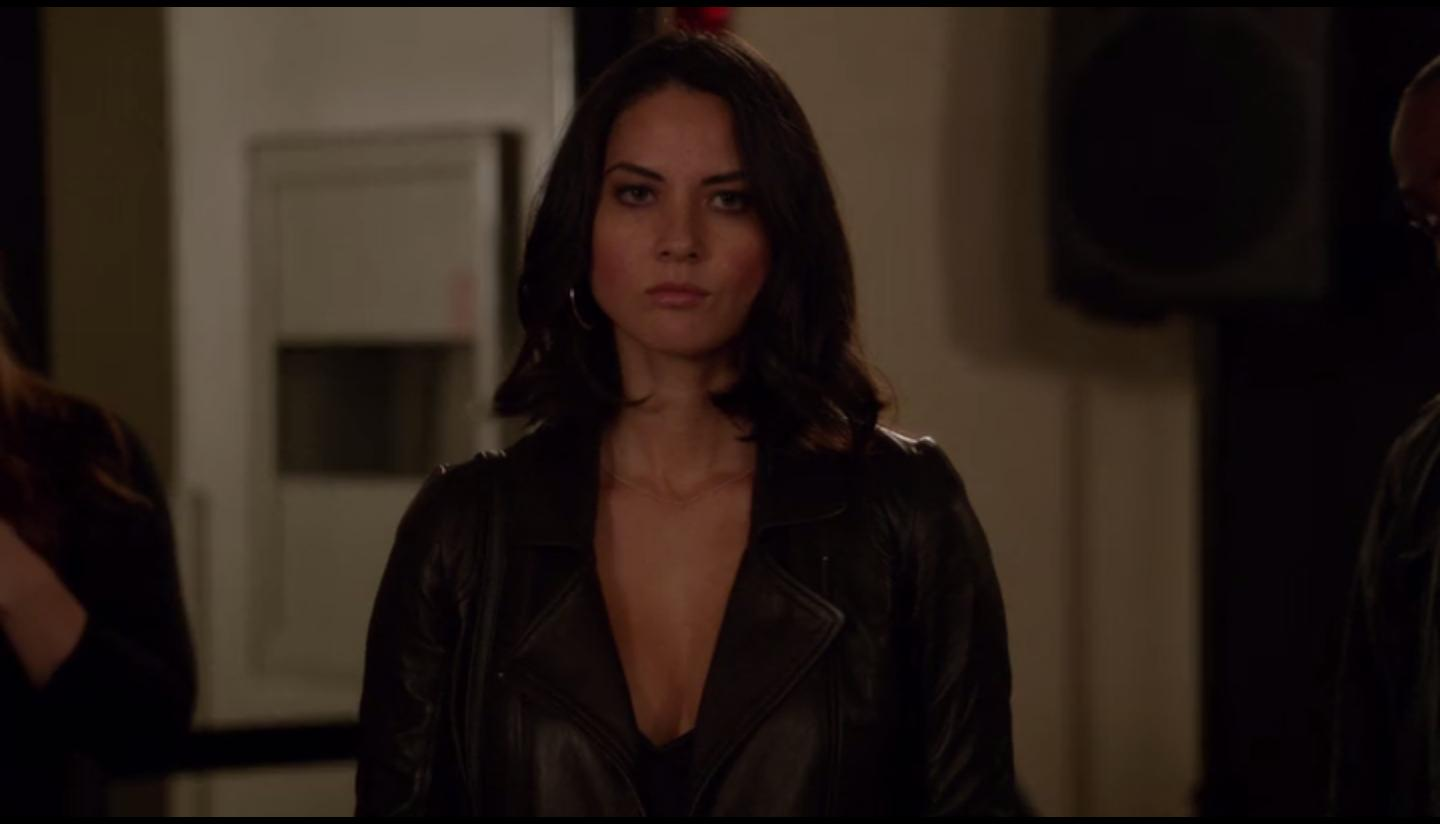person: (353, 26, 1033, 821)
